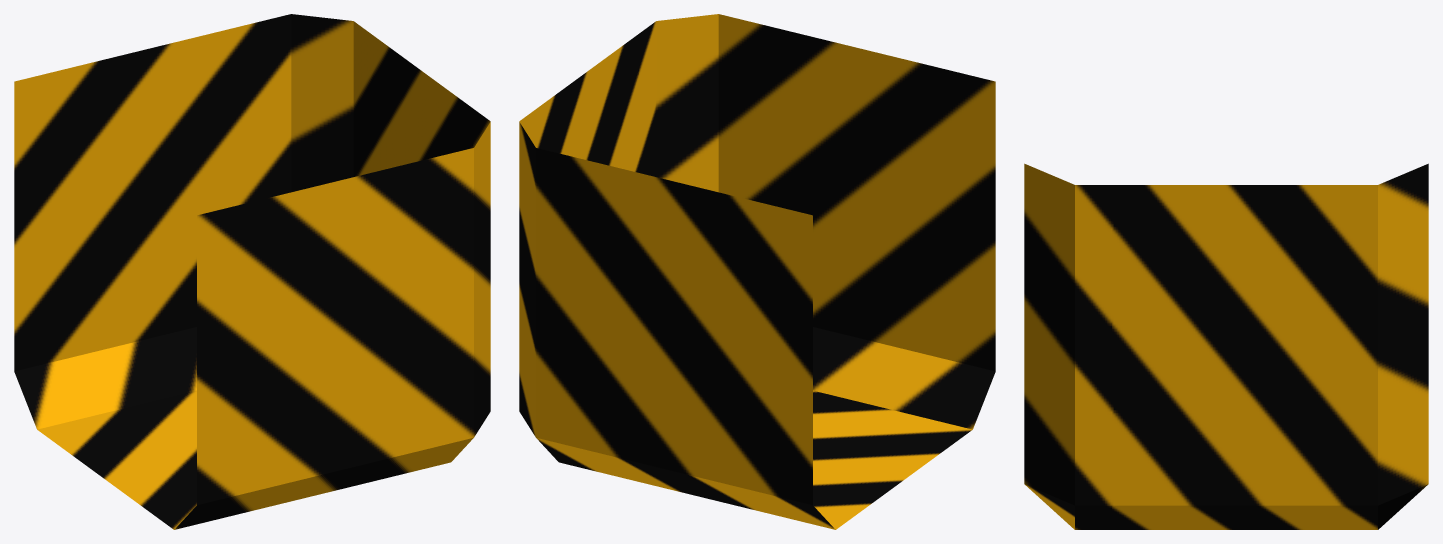
File: Bevel_5.fbx
3 views of the same model, side by side, from view 1: azimuth 30°, elevation 25°; view 2: azimuth 150°, elevation 25°; view 3: azimuth 270°, elevation 25° (orthographic). The views are drawn at different scales.
Visible parts, largest first — view 1: Bevel_5; view 2: Bevel_5; view 3: Bevel_5.
Part boxes in pixels (left/top/right/bottom): Bevel_5: left=14, top=14, right=490, bottom=529; Bevel_5: left=519, top=14, right=995, bottom=529; Bevel_5: left=1024, top=163, right=1428, bottom=529.
Size of the model in its own units: 10000 by 10000 by 10000.
